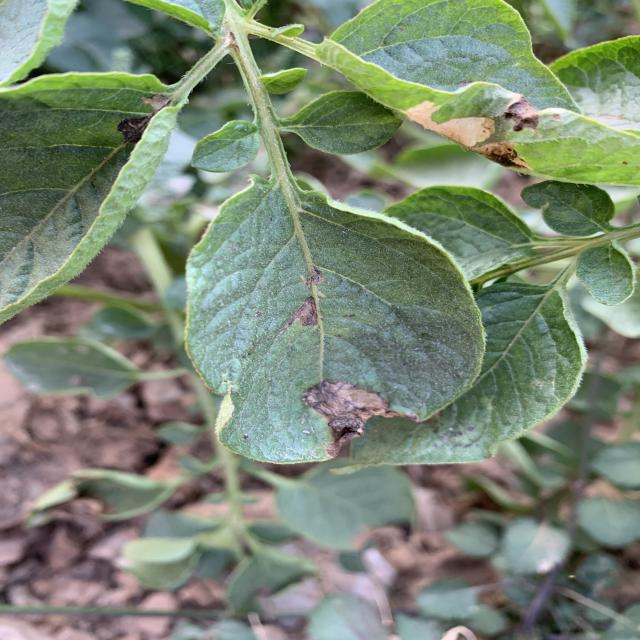lateblight: (397, 82, 540, 169), (303, 380, 407, 449), (280, 296, 317, 334)
